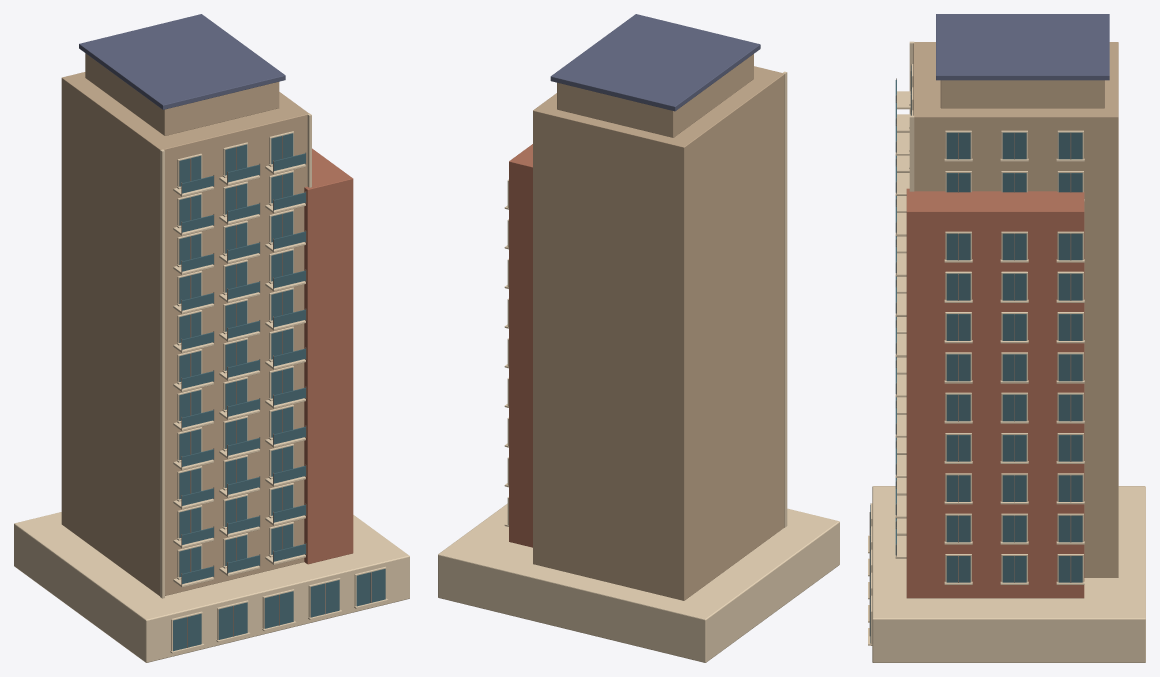
File: residential-tower-realistic.glb
3 renders of one model, left to right at view 1: azimuth 30°, elevation 25°; view 2: azimuth 150°, elevation 25°; view 3: azimuth 270°, elevation 25°, orthographic. The views are drawn at different scales.
Visible parts, largest first — view 1: residential-tower-realistic; view 2: residential-tower-realistic; view 3: residential-tower-realistic.
Boxes of the visible parts, left/top/right/bottom form: residential-tower-realistic: left=14, top=14, right=409, bottom=662; residential-tower-realistic: left=438, top=14, right=839, bottom=662; residential-tower-realistic: left=868, top=14, right=1145, bottom=662.
Bounding box in the file's own units: 23 × 43.6 × 20.32.
